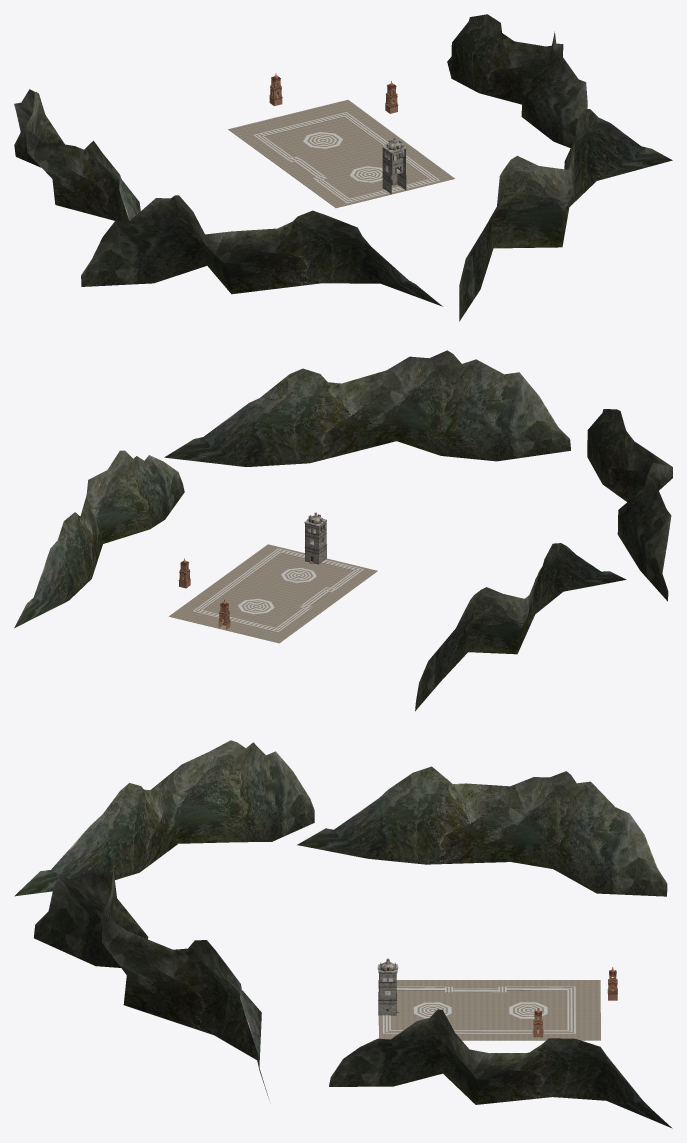
Rendered from level3.dae.
3 renders of one model, top to bottom at view 1: azimuth 30°, elevation 25°; view 2: azimuth 150°, elevation 25°; view 3: azimuth 270°, elevation 25°, orthographic. The views are drawn at different scales.
Visible parts, largest first — view 1: pCylinder6, pCylinder5, SM_MC_church_terrain02, pCylinder4, pCylinder7, SM_MC_belltower2; view 2: pCylinder5, pCylinder4, SM_MC_church_terrain02, pCylinder7, pCylinder6, SM_MC_belltower2; view 3: pCylinder7, pCylinder6, pCylinder5, pCylinder4, SM_MC_church_terrain02, SM_MC_belltower2.
Part boxes in pixels (x1=…): pCylinder6: x1=81, y1=195, x2=442, y2=306; pCylinder5: x1=459, y1=109, x2=672, y2=321; SM_MC_church_terrain02: x1=228, y1=100, x2=454, y2=207; pCylinder4: x1=447, y1=14, x2=587, y2=147; pCylinder7: x1=14, y1=89, x2=140, y2=220; SM_MC_belltower2: x1=381, y1=137, x2=406, y2=194; pCylinder5: x1=164, y1=350, x2=570, y2=466; pCylinder4: x1=14, y1=450, x2=184, y2=628; SM_MC_church_terrain02: x1=169, y1=544, x2=377, y2=643; pCylinder7: x1=415, y1=543, x2=626, y2=711; pCylinder6: x1=587, y1=409, x2=672, y2=601; SM_MC_belltower2: x1=304, y1=512, x2=326, y2=564; pCylinder7: x1=297, y1=766, x2=667, y2=896; pCylinder6: x1=14, y1=740, x2=314, y2=896; pCylinder5: x1=34, y1=866, x2=269, y2=1099; pCylinder4: x1=329, y1=1009, x2=672, y2=1128; SM_MC_church_terrain02: x1=378, y1=980, x2=600, y2=1040; SM_MC_belltower2: x1=377, y1=958, x2=399, y2=1015.
Bounding box in the file's own units: 42207 × 40904 × 10861.
